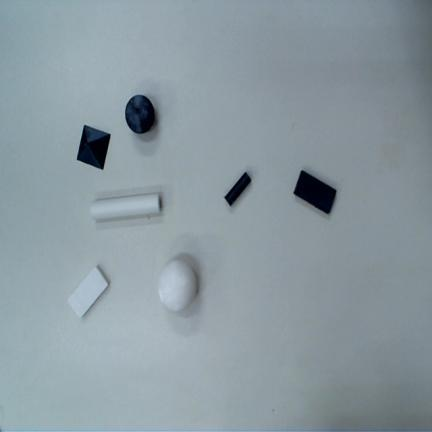Cilindro: (89, 193, 161, 220), (224, 172, 252, 205)
Esfera: (158, 259, 197, 311), (125, 94, 155, 134)
Paralelepipedo: (68, 266, 109, 318), (293, 170, 337, 214)
Piramide: (77, 125, 111, 170)
